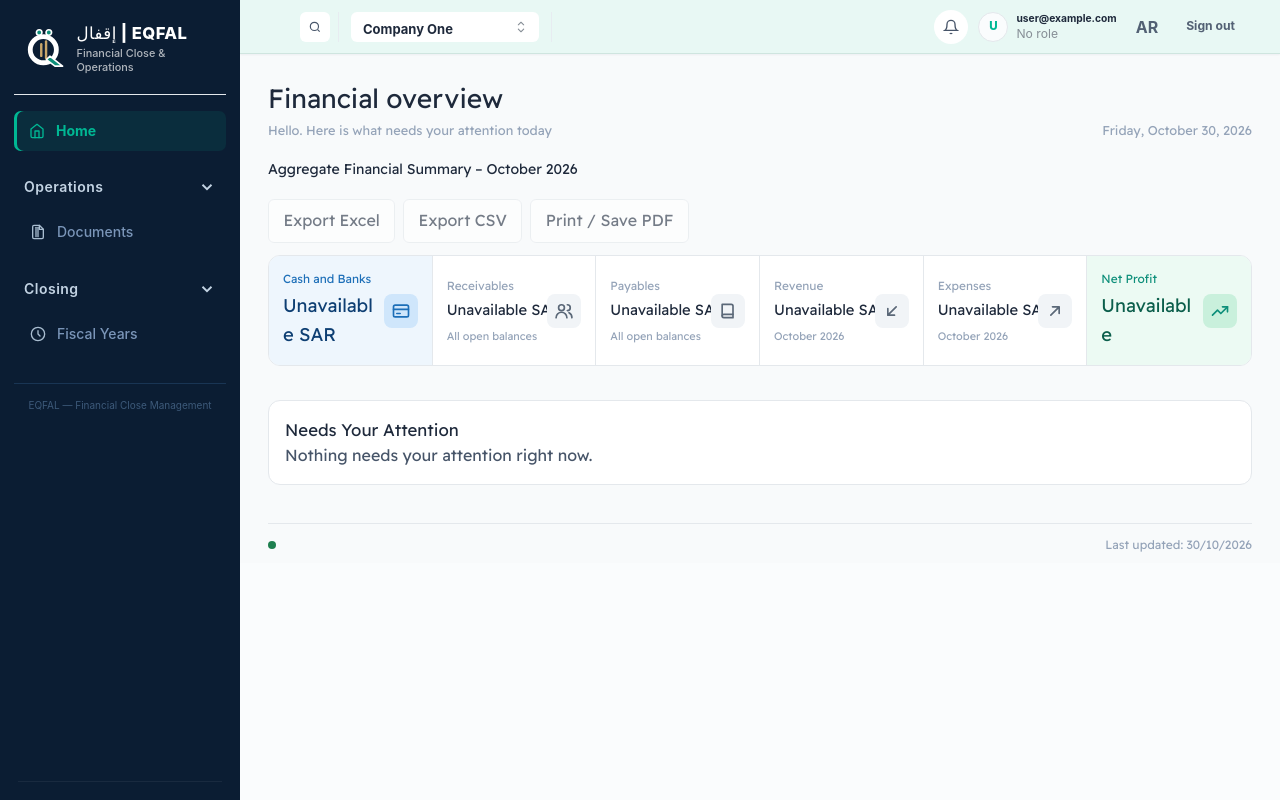
Test case: authenticated application shell › hides operational navigation without each relevant view capability
Click the button "Operations" at (120, 187), box [14,167,226,207]
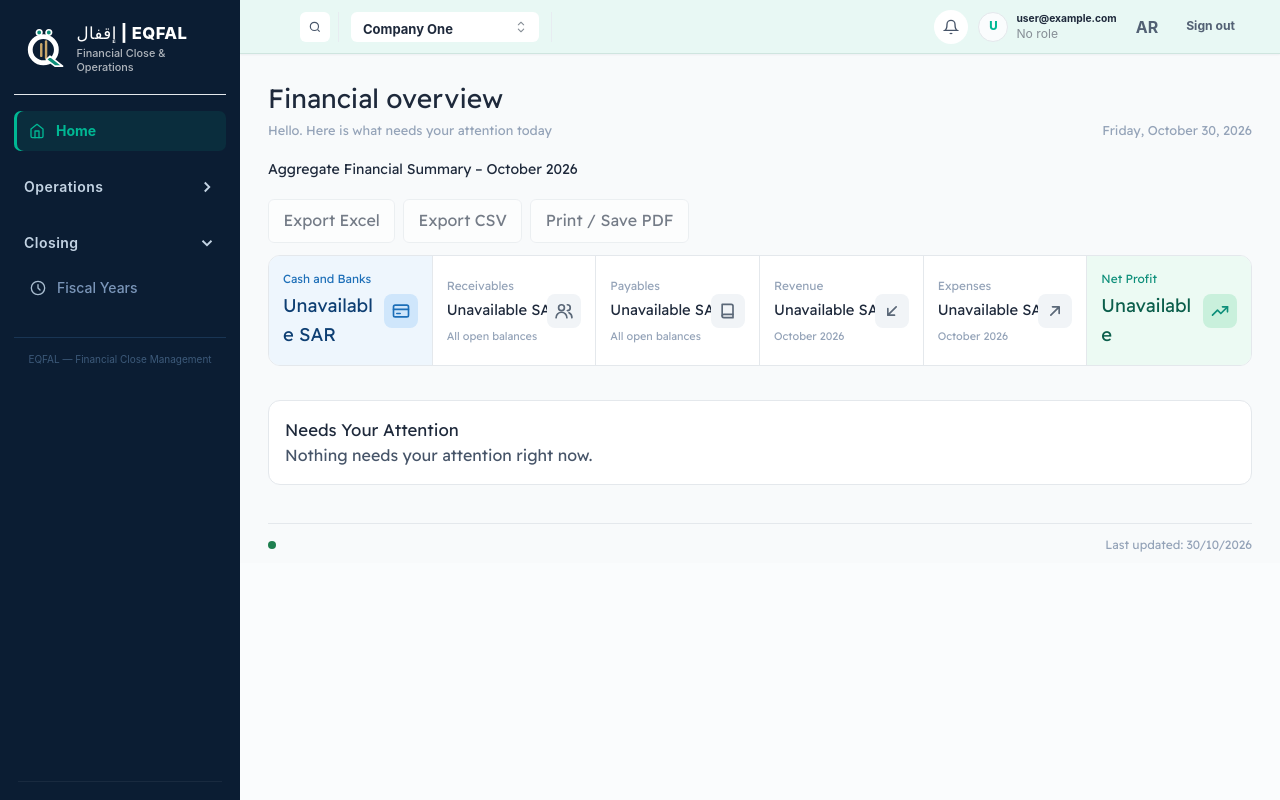
Click the button "Operations" at (120, 187), box [14,167,226,207]
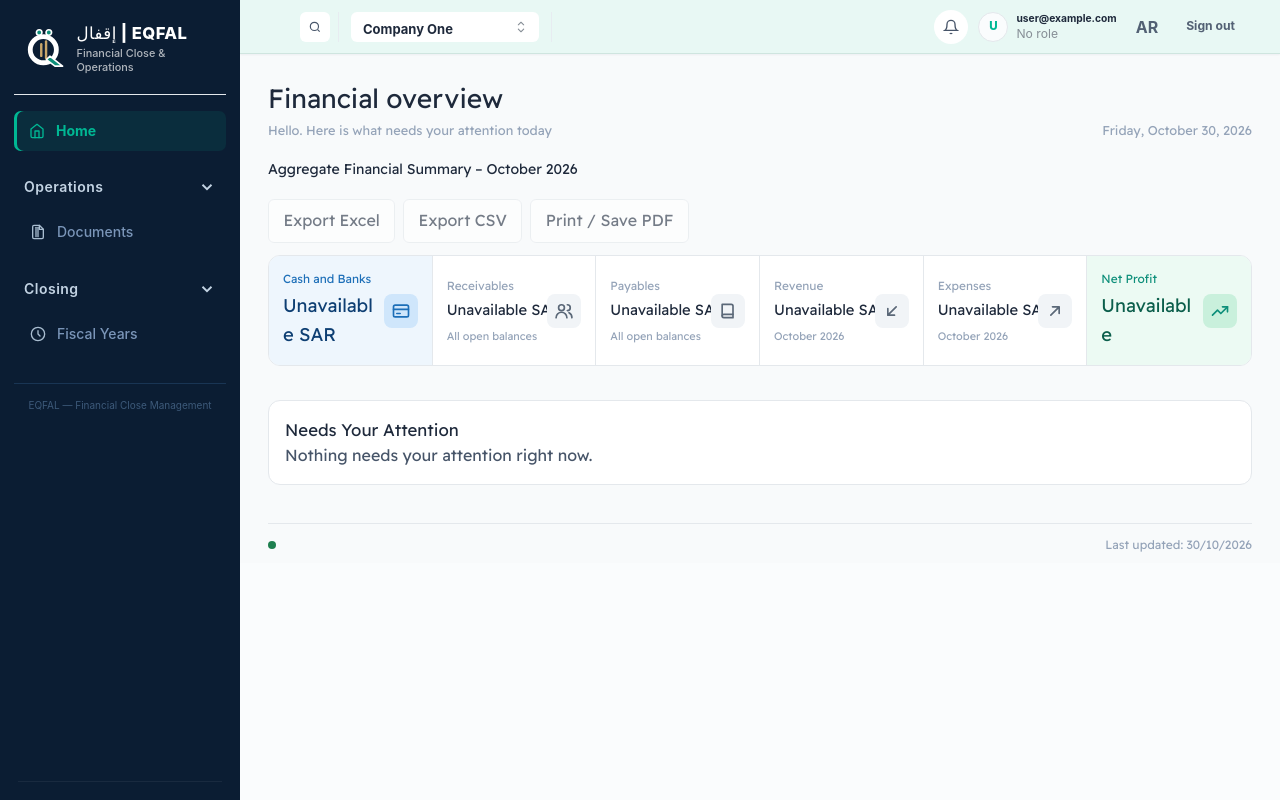
Expected: the button "Documents" is shown, [14,211,226,253]
